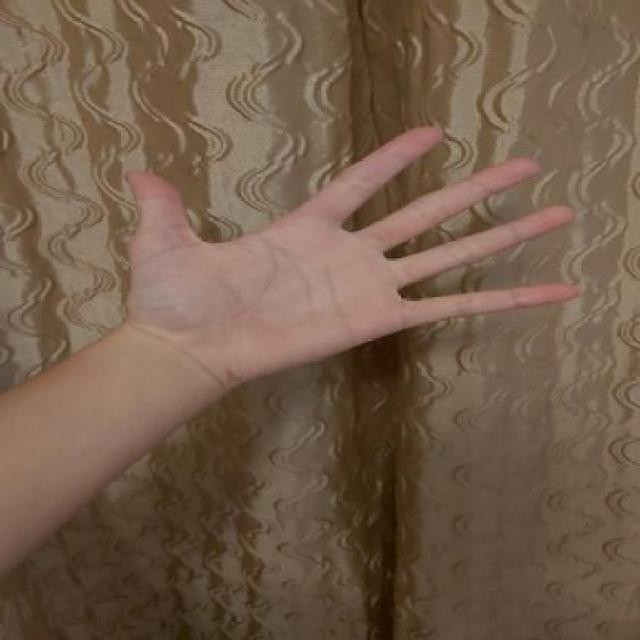bare_hand: (100, 113, 598, 402)
